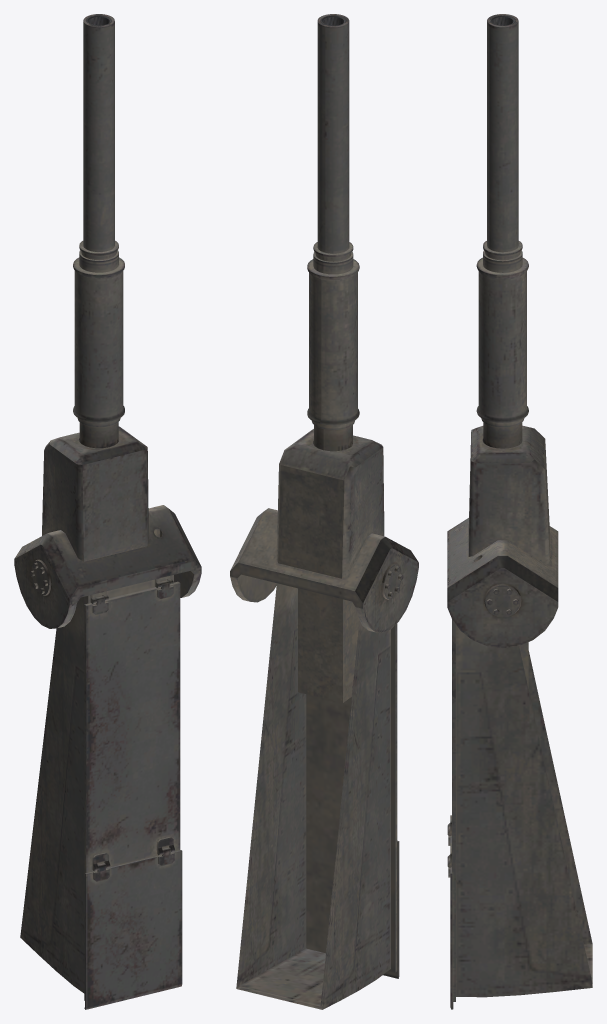
File: Gun_02.glb
3 renders of one model, left to right at view 1: azimuth 30°, elevation 25°; view 2: azimuth 150°, elevation 25°; view 3: azimuth 270°, elevation 25°, orthographic.
Parts seen in each view (by area): view 1: set_0_group_0; view 2: set_0_group_0; view 3: set_0_group_0.
Part boxes in pixels (left/top/right/bottom): set_0_group_0: left=14, top=14, right=201, bottom=1009; set_0_group_0: left=230, top=14, right=418, bottom=1009; set_0_group_0: left=447, top=14, right=592, bottom=1009.
Bounding box in the file's own units: 0.7994 × 5.21 × 0.7132.
Materials: 1 (1 with a texture image).
